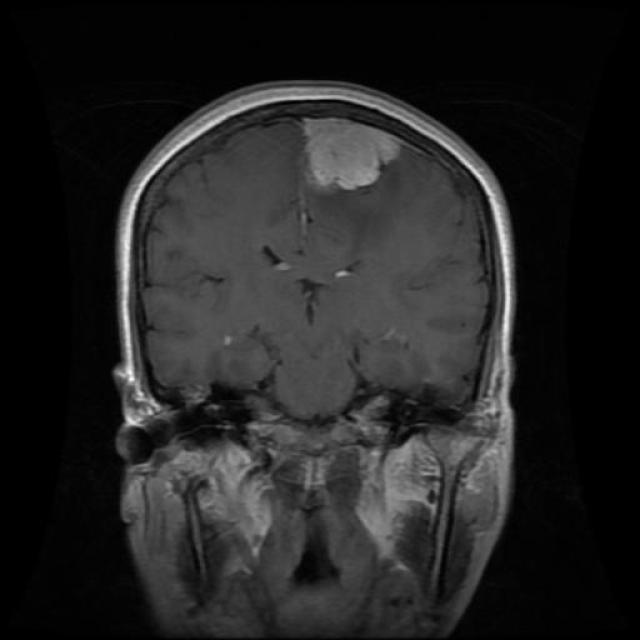meningioma: (310, 119, 400, 190)
